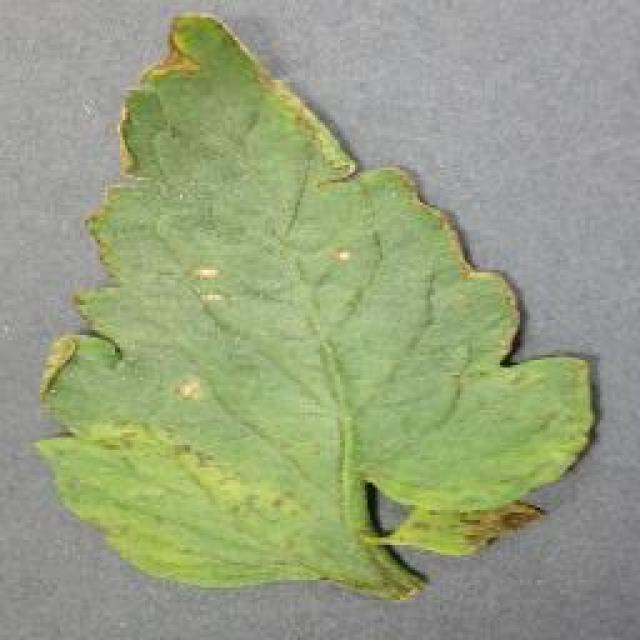Tomato___Bacterial_spot: (31, 15, 599, 607)
